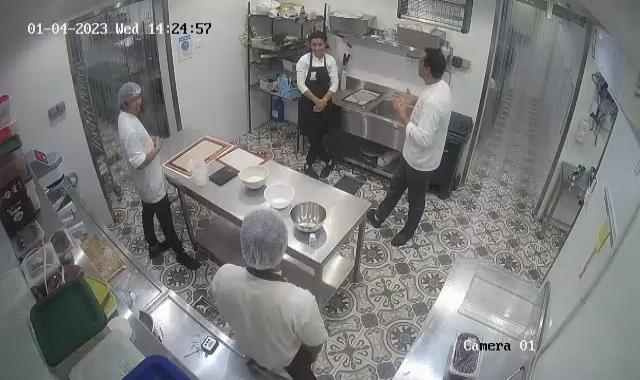hairnet: (238, 208, 287, 278), (118, 80, 142, 110)
no_hairnet: (424, 47, 446, 81), (308, 30, 330, 49)
